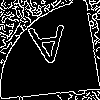A: (25, 25, 71, 76)
